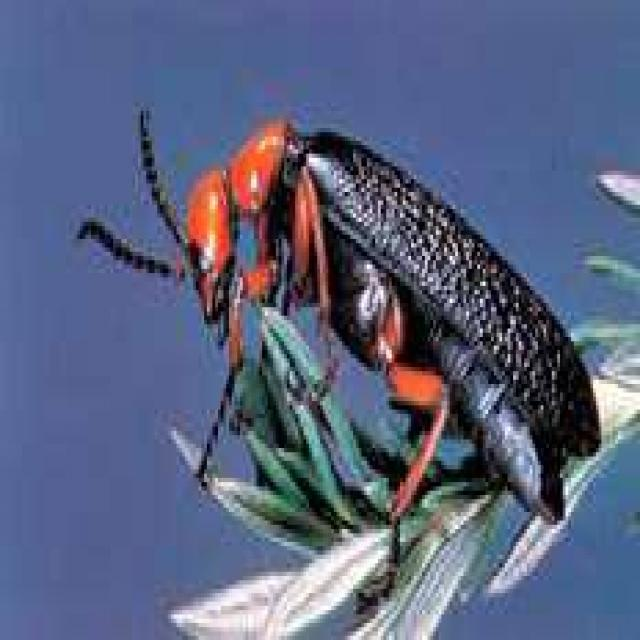BlisterBeetle-Adult-: (100, 79, 606, 558)
